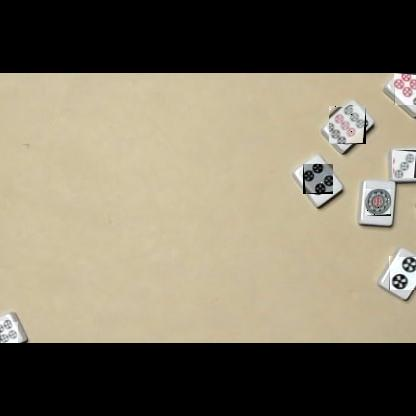1p: (365, 189, 391, 216)
2p: (389, 256, 416, 290)
4p: (303, 164, 333, 194)
6p: (394, 73, 416, 105)
7p: (393, 150, 416, 178)
8p: (0, 321, 18, 343)
9p: (329, 106, 366, 144)
